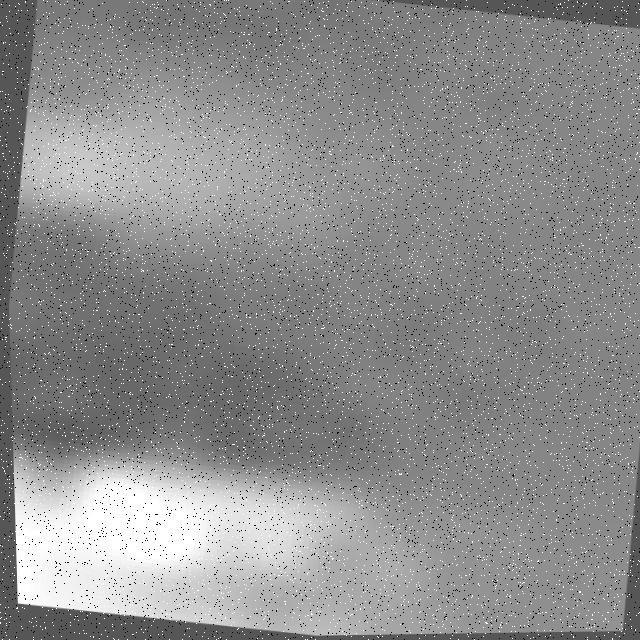person: (7, 28, 313, 293), (11, 438, 395, 640)
